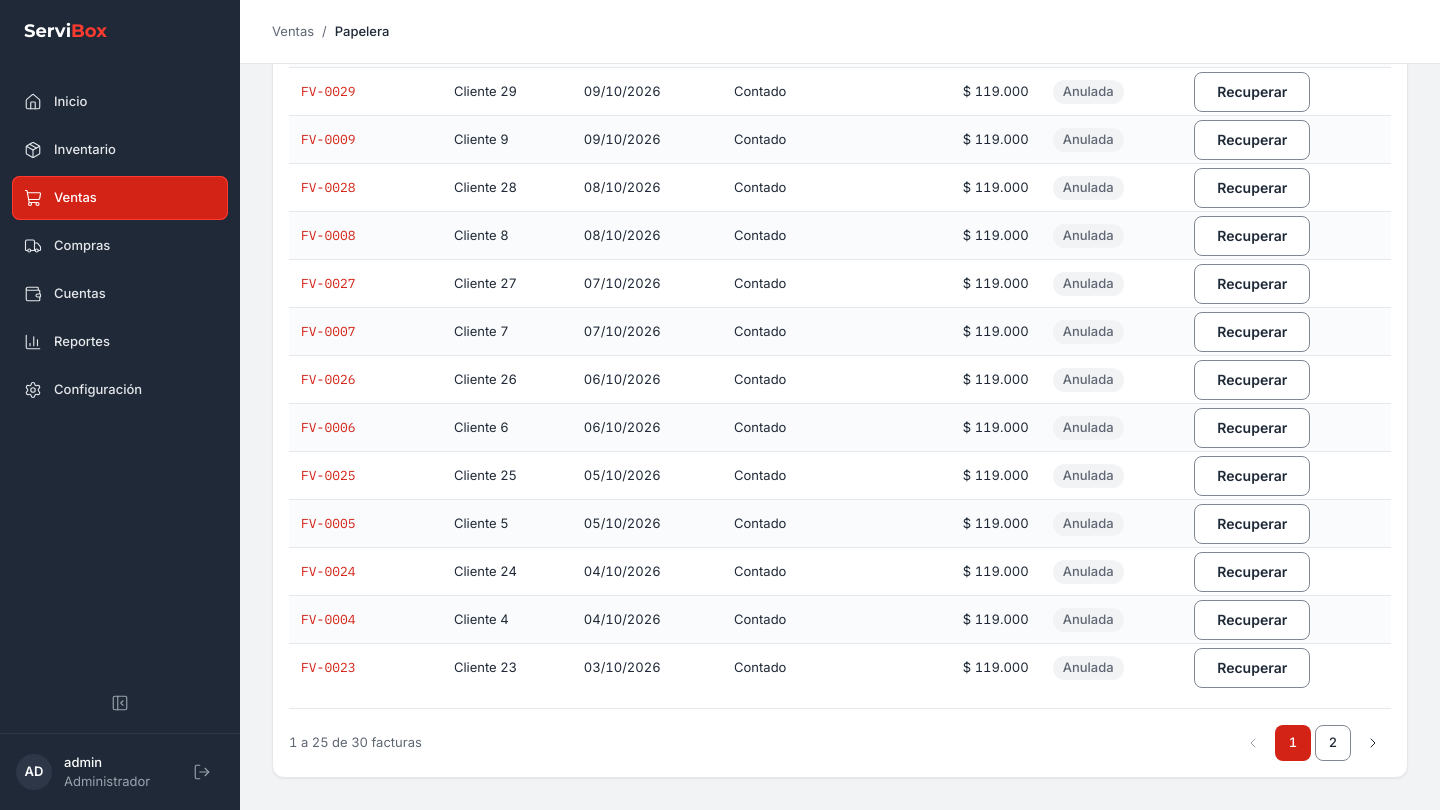
Test case: papelera de ventas › pagina de 25 en 25 con la pagina en la URL
(page scrolled)
expect the text "1 a 25 de 30 facturas" is shown: met, box [289,733,422,752]
Click the button named "Página 2" at (1333, 743), box [1315,725,1351,761]
(page scrolled)
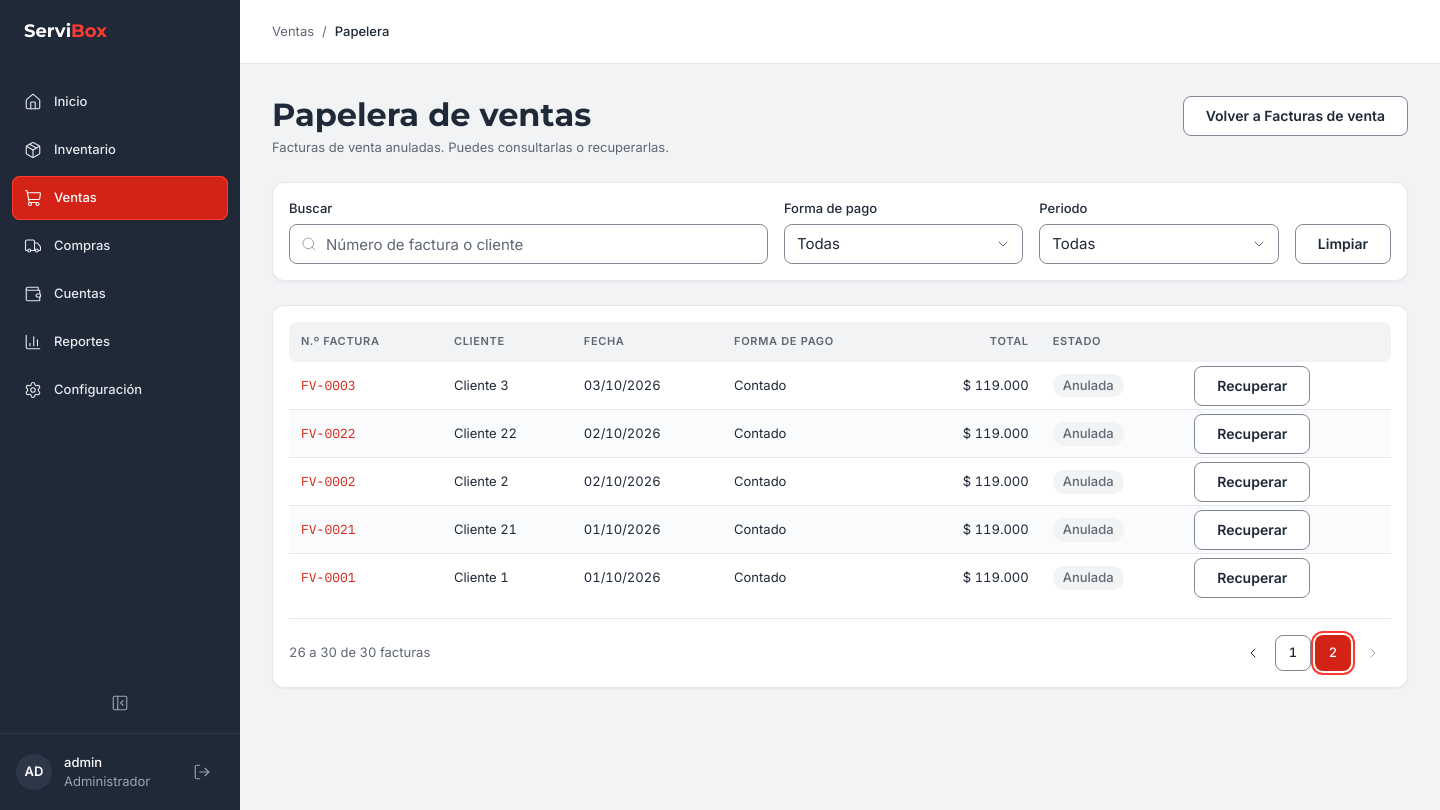
expect the text "26 a 30 de 30 facturas" is shown: met, box [289,643,430,662]
